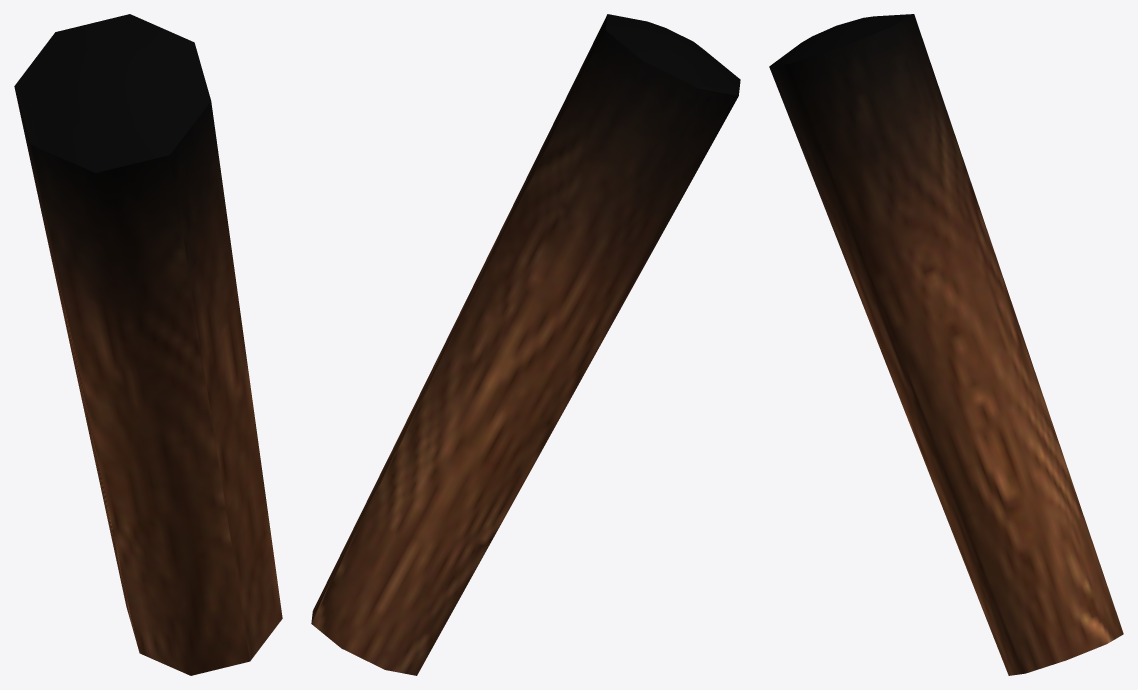
Rendered from torch.FBX.
3 renders of one model, left to right at view 1: azimuth 30°, elevation 25°; view 2: azimuth 150°, elevation 25°; view 3: azimuth 270°, elevation 25°, orthographic. The views are drawn at different scales.
Visible parts, largest first — view 1: torch; view 2: torch; view 3: torch.
Part boxes in pixels (left/top/right/bottom): torch: left=14, top=14, right=282, bottom=675; torch: left=311, top=14, right=740, bottom=675; torch: left=769, top=14, right=1123, bottom=675.
Bounding box in the file's own units: 2.69 × 5.08 × 2.8.
1 material, 1 textured.
